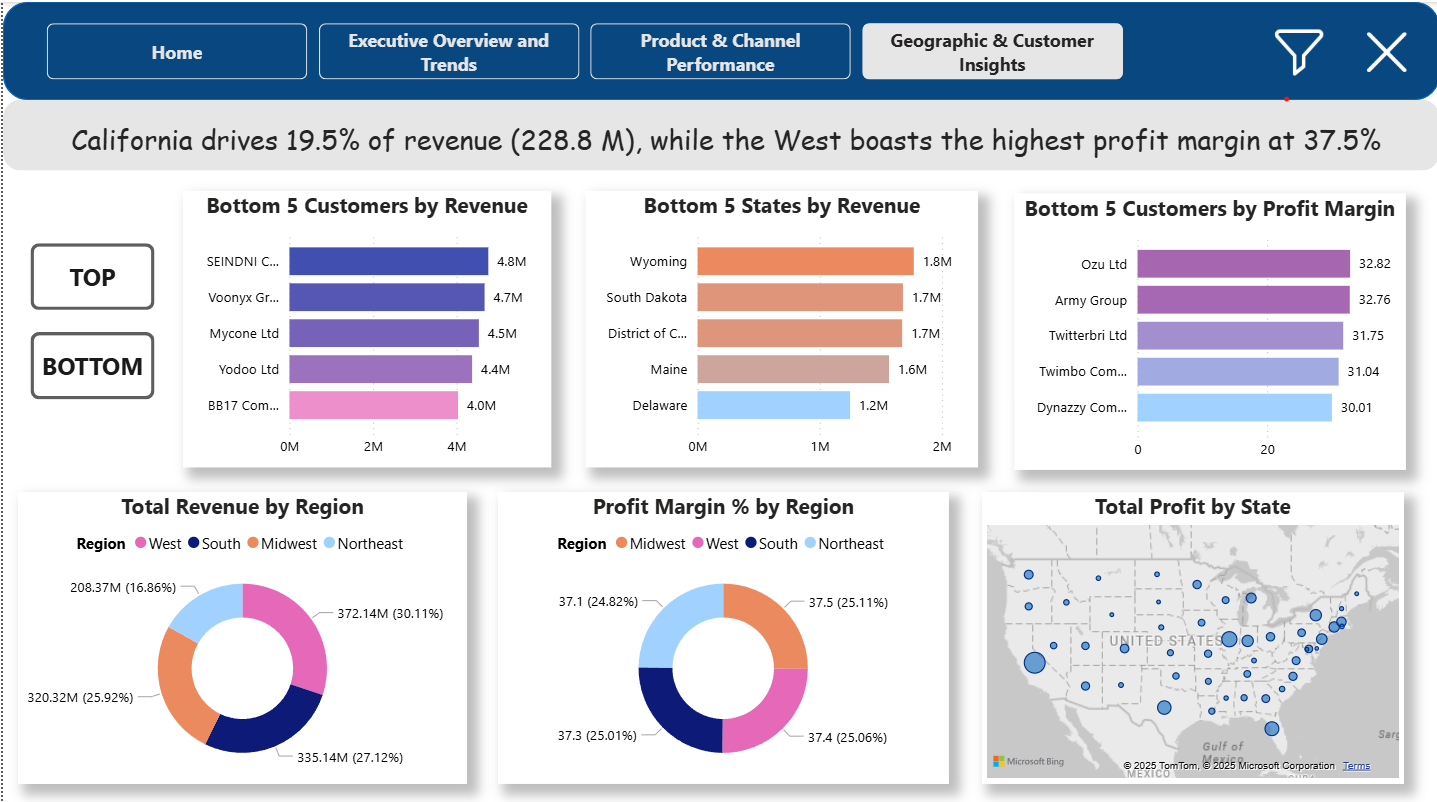

The page's visual inventory and layout, read from the dashboard file:
{"tool":"powerbi","page":{"name":"Geographic & Customer Insights","canvas":[1280,720],"ordinal":3},"visuals":[{"type":"barChart","title":"Top 5 Customers by Revenue","fields":{"Y":["Sum(Sales_data(EDA Exported).revenue)"],"Category":["Sales_data(EDA Exported).customer_name"]},"box":[170.2,171.5,325.2,248.4],"z":0},{"type":"barChart","title":"Top 5 States by Revenue","fields":{"Y":["Sum(Sales_data(EDA Exported).revenue)"],"Category":["Sales_data(EDA Exported).state_name"]},"box":[520.1,170.2,349.9,248.4],"z":1000},{"type":"donutChart","title":"Total Revenue by Region","fields":{"Y":["Sum(Sales_data(EDA Exported).revenue)"],"Category":["Sales_data(EDA Exported).us_region"]},"box":[13.4,435.8,400,259.7],"z":2000},{"type":"donutChart","title":"Profit Margin % by Region","fields":{"Y":["Custom Measures.Profit Margin (%)"],"Category":["Sales_data(EDA Exported).us_region"]},"box":[440.3,435.8,401.5,259.7],"z":3000},{"type":"map","title":"Total Profit by State","fields":{"Category":["Sales_data(EDA Exported).state"],"Size":["Sum(Sales_data(EDA Exported).profit)"]},"box":[871.6,435.8,376.1,259.7],"z":4000},{"type":"shape","box":[0,87.3,1279.4,63.5],"z":5000},{"type":"textbox","box":[39.7,100,1207.9,68.3],"z":6000},{"type":"shape","box":[0,0,1279.4,87.3],"z":7000},{"type":"pageNavigator","box":[39.3,18.4,960.7,50.3],"z":8000},{"type":"barChart","title":"Top 5 Customers by Profit Margin ","fields":{"Category":["Sales_data(EDA Exported).customer_name"],"Y":["Custom Measures.Profit Margin (%)"]},"box":[897.8,170.9,349.3,247.2],"z":9000},{"type":"actionButton","title":"TOP","box":[24.8,214.7,110.5,59.6],"z":13000},{"type":"actionButton","box":[24.8,294.2,110.5,60],"z":14000},{"type":"image","box":[1119.6,13.7,69.5,60.8],"z":15000},{"type":"image","box":[1206.5,22.3,50.9,44.7],"z":16000}]}

Visuals, with their boxes in screenshot pixels (x1, y1, x2, y2), scaled from the page's 1280x720 canvas onto the 1437x802 screenshot:
"Top 5 Customers by Revenue" barChart: bbox=[191, 191, 556, 468]
"Top 5 States by Revenue" barChart: bbox=[584, 190, 977, 466]
"Total Revenue by Region" donutChart: bbox=[15, 485, 464, 775]
"Profit Margin % by Region" donutChart: bbox=[494, 485, 945, 775]
"Total Profit by State" map: bbox=[979, 485, 1401, 775]
shape: bbox=[0, 97, 1436, 168]
textbox: bbox=[45, 111, 1401, 187]
shape: bbox=[0, 0, 1436, 97]
pageNavigator: bbox=[44, 20, 1123, 77]
"Top 5 Customers by Profit Margin " barChart: bbox=[1008, 190, 1400, 466]
"TOP" actionButton: bbox=[28, 239, 152, 306]
actionButton: bbox=[28, 328, 152, 395]
image: bbox=[1257, 15, 1335, 83]
image: bbox=[1354, 25, 1412, 75]
